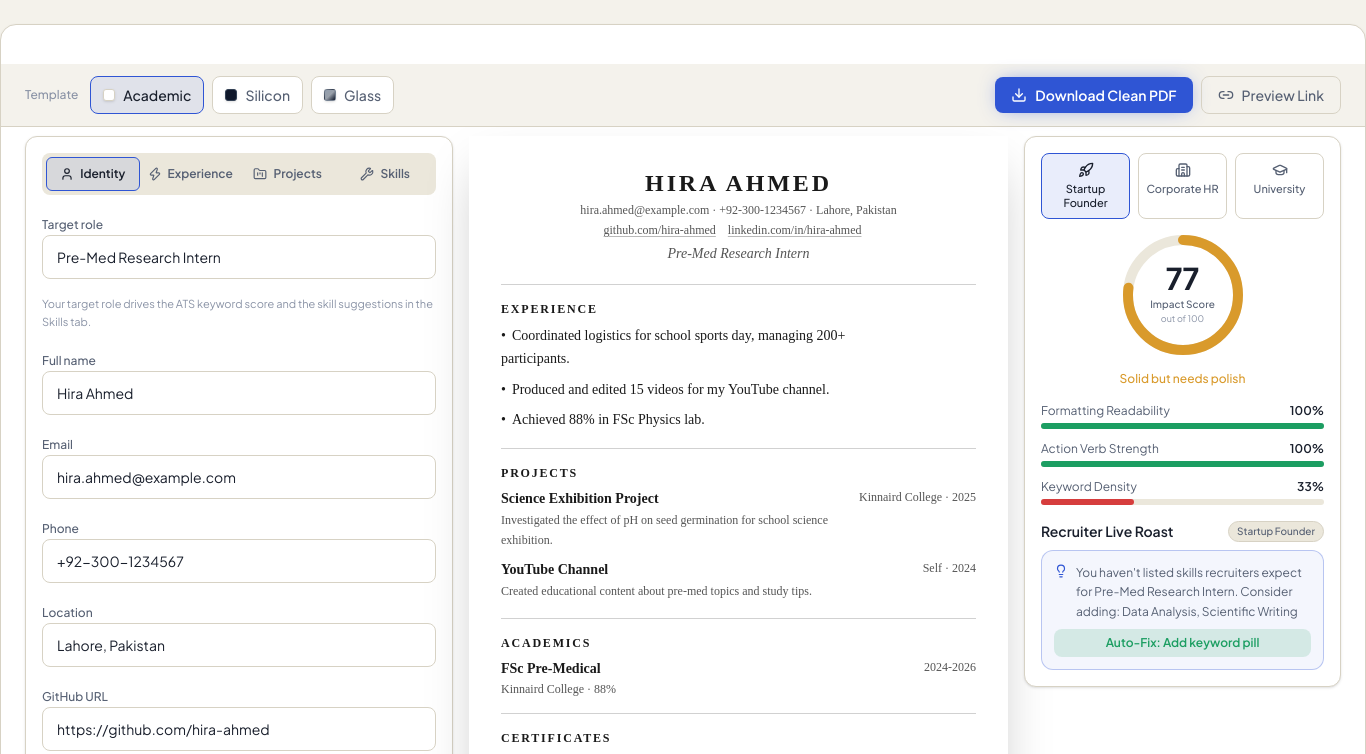
Scenario: switching tabs reveals each tab's content
The image size is (1366, 754).
Click the tab "Experience" at (190, 174), box [144,157,237,191]
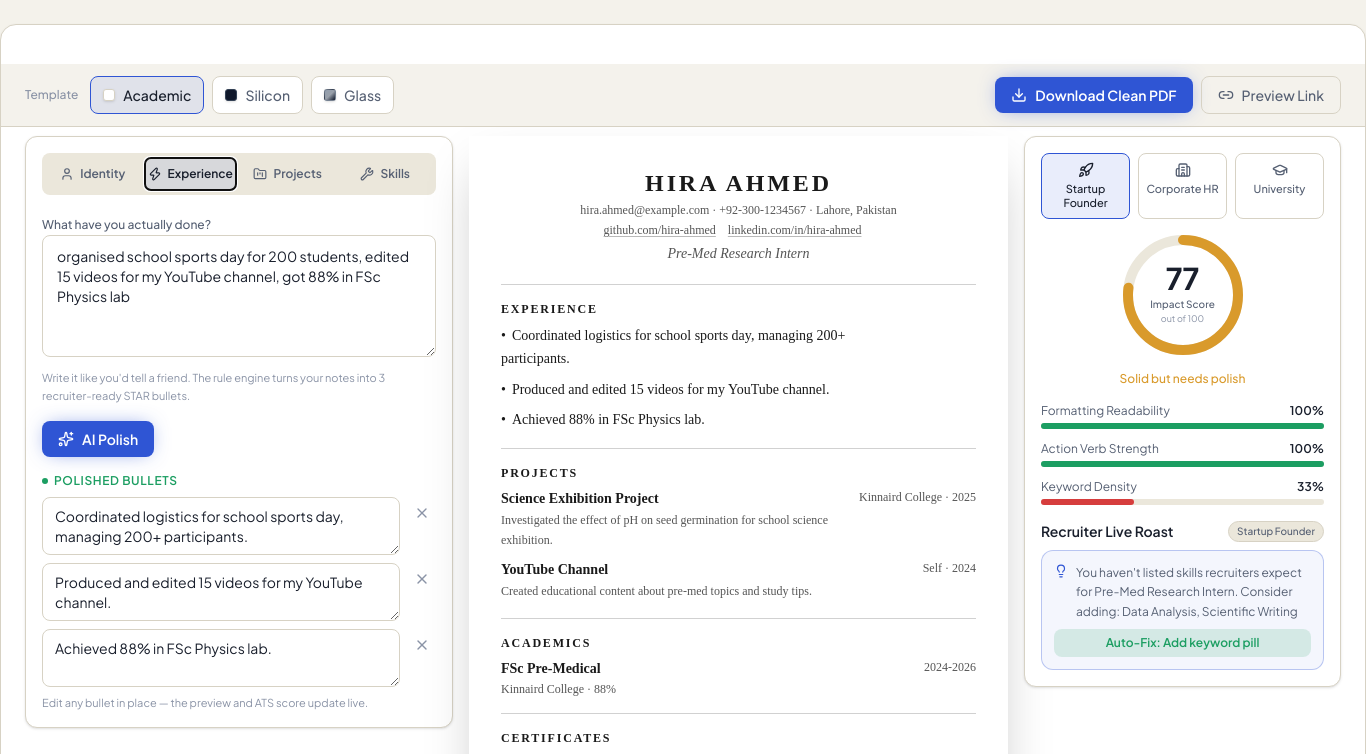
Now the text box labelled "What have you actually done?" is shown, box [42,235,436,357]
Click the tab "Projects" at (288, 174), box [241,157,334,191]
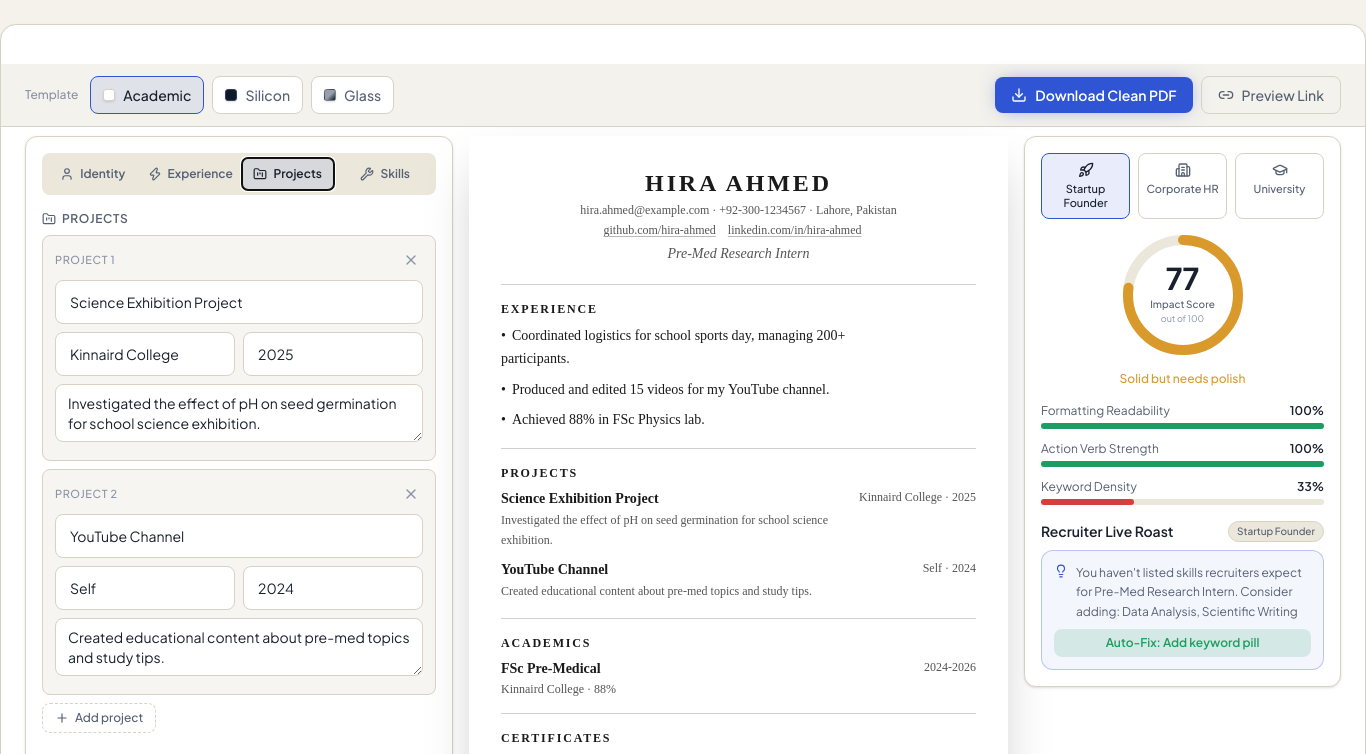
Now the button "Add project" is shown, box [42,703,156,733]
Click the tab "Skills" at (385, 174), box [338,157,432,191]
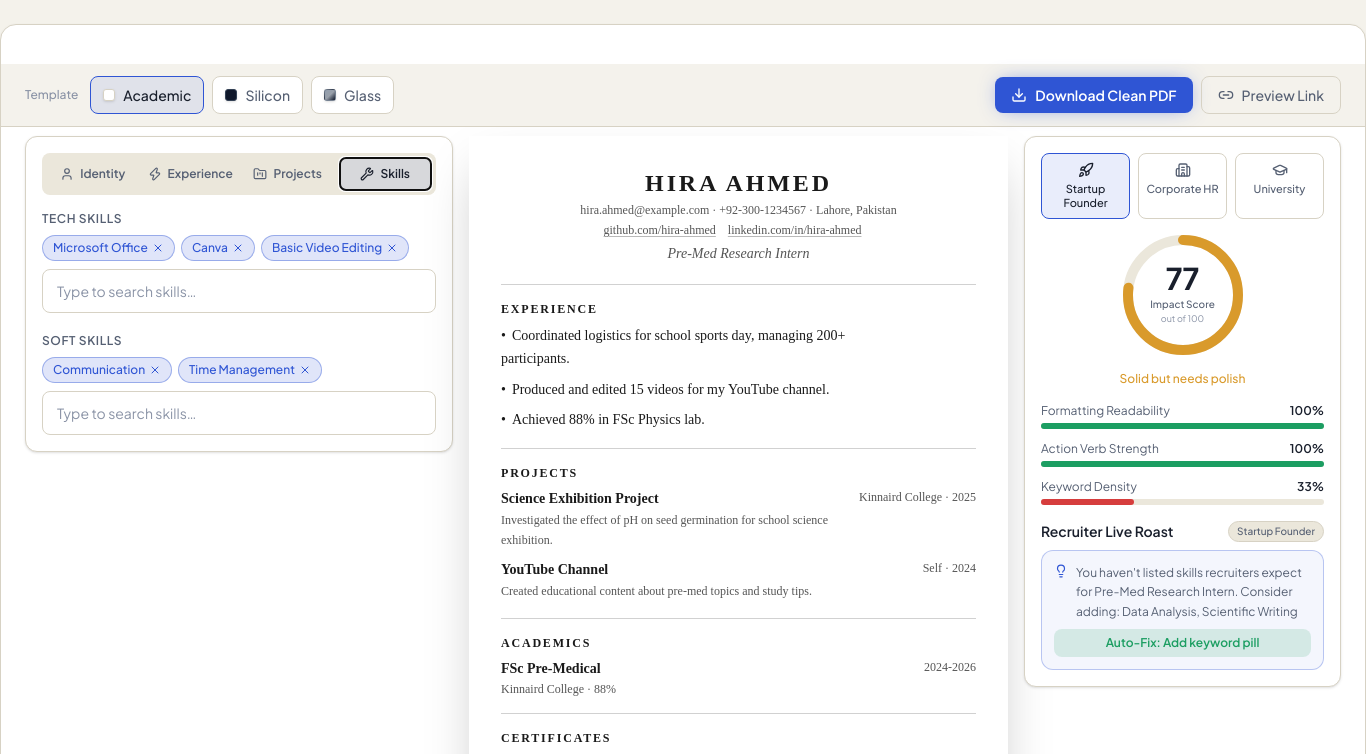
Now the button with aria-label "Remove Microsoft Office" is shown, box [42,235,175,261]
Click the tab "Identity" at (93, 174), box [46,157,140,191]
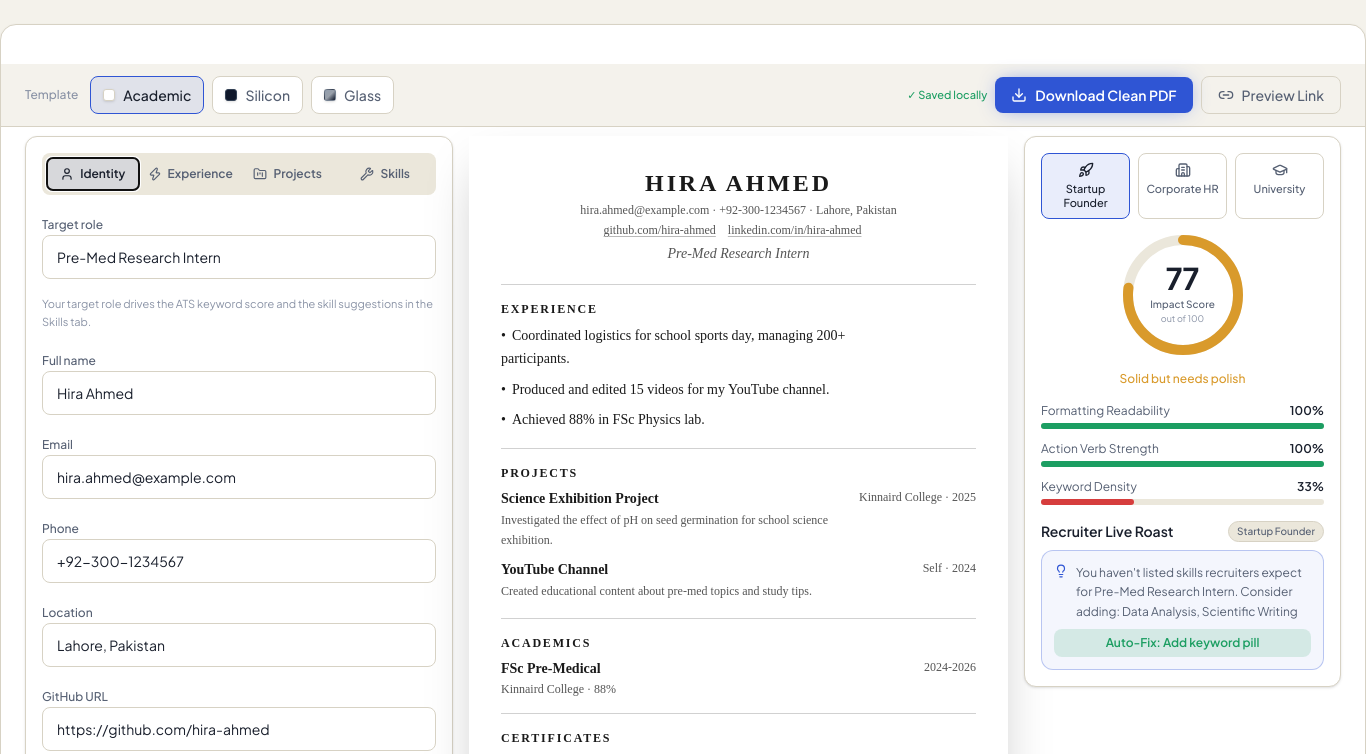
Now the field labelled "Full name" holds "Hira Ahmed", box [42,371,436,415]
